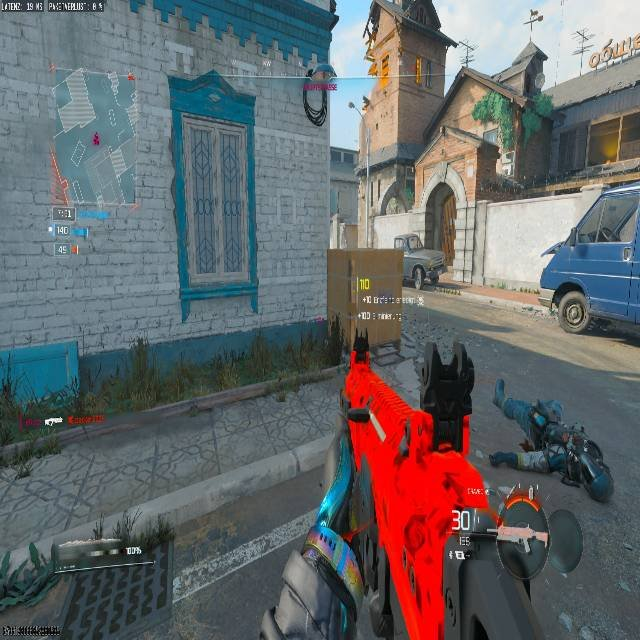head: (529, 401, 561, 438)
player: (488, 388, 612, 503)
